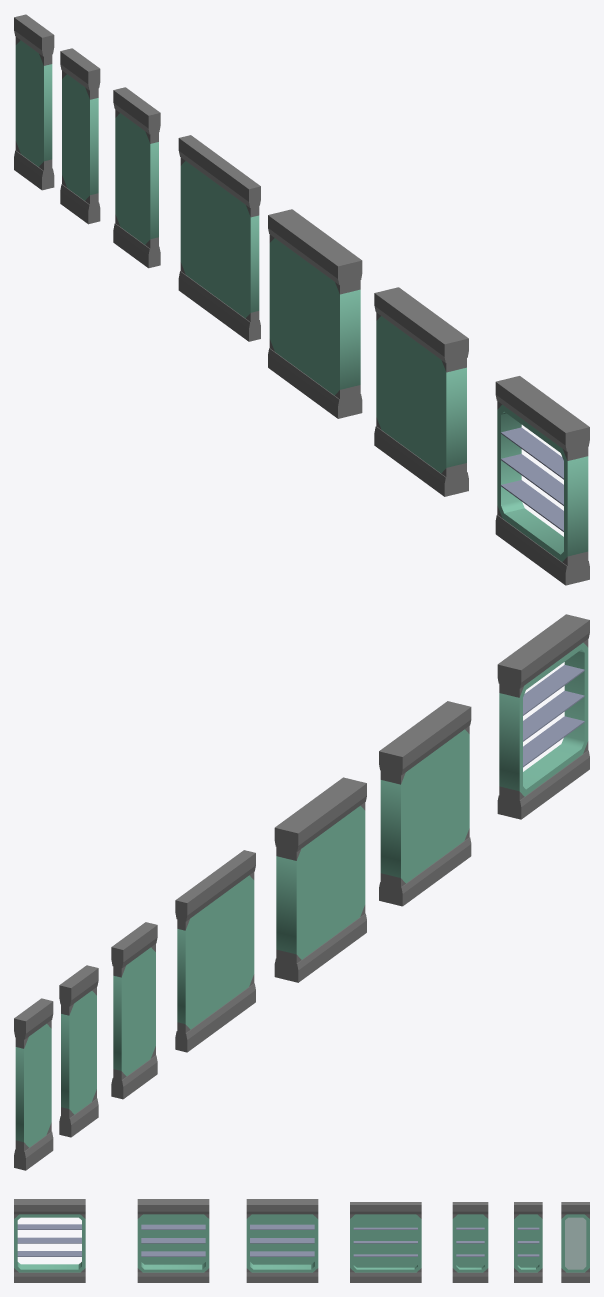
The model's file is NIS.fbx.
3 views of the same model, one above another, from view 1: azimuth 30°, elevation 25°; view 2: azimuth 150°, elevation 25°; view 3: azimuth 270°, elevation 25° (orthographic). The views are drawn at different scales.
Visible parts, largest first — view 1: Box012, Box011, Box010, Box013, Box008, Box014, Box015, DUVAR126, DUVAR130, DUVAR128, Object002, DUVAR129 (+5 smaller); view 2: Box012, Box010, Box011, Box013, Box008, Box014, Box015, DUVAR126, DUVAR130, DUVAR128, Object002, DUVAR131 (+5 smaller); view 3: Box012, Box011, Box010, Box013, Box014, Box008, Box015, DUVAR128, DUVAR130, DUVAR126, Object003, DUVAR129 (+8 smaller).
Part boxes in pixels (<box>): Box012: <box>178,135,260,341</box>; Box011: <box>269,234,360,399</box>; Box010: <box>376,312,466,477</box>; Box013: <box>113,87,160,268</box>; Box008: <box>497,401,588,565</box>; Box014: <box>60,48,100,224</box>; Box015: <box>14,14,54,190</box>; DUVAR126: <box>495,376,589,451</box>; DUVAR130: <box>268,209,362,284</box>; DUVAR128: <box>374,287,468,362</box>; Object002: <box>19,47,40,159</box>; DUVAR129: <box>374,426,468,496</box>; Box012: <box>175,850,255,1052</box>; Box010: <box>380,726,469,887</box>; Box011: <box>276,802,365,963</box>; Box013: <box>111,922,157,1099</box>; Box008: <box>499,639,588,800</box>; Box014: <box>59,965,98,1137</box>; Box015: <box>14,998,53,1170</box>; DUVAR126: <box>497,614,589,688</box>; DUVAR130: <box>274,777,366,851</box>; DUVAR128: <box>379,701,471,775</box>; Object002: <box>27,1031,47,1140</box>; DUVAR131: <box>274,913,366,982</box>; Box012: <box>350,1202,421,1282</box>; Box011: <box>246,1214,318,1272</box>; Box010: <box>137,1214,209,1272</box>; Box013: <box>452,1202,488,1282</box>; Box014: <box>514,1202,542,1282</box>; Box008: <box>14,1214,85,1272</box>; Box015: <box>561,1202,589,1282</box>; DUVAR128: <box>137,1199,209,1214</box>; DUVAR130: <box>246,1199,318,1214</box>; DUVAR126: <box>14,1199,85,1214</box>; Object003: <box>565,1217,586,1269</box>; DUVAR129: <box>137,1272,209,1282</box>.
Size of what is drawn, in the model's own units: 40 by 240 by 1608.
